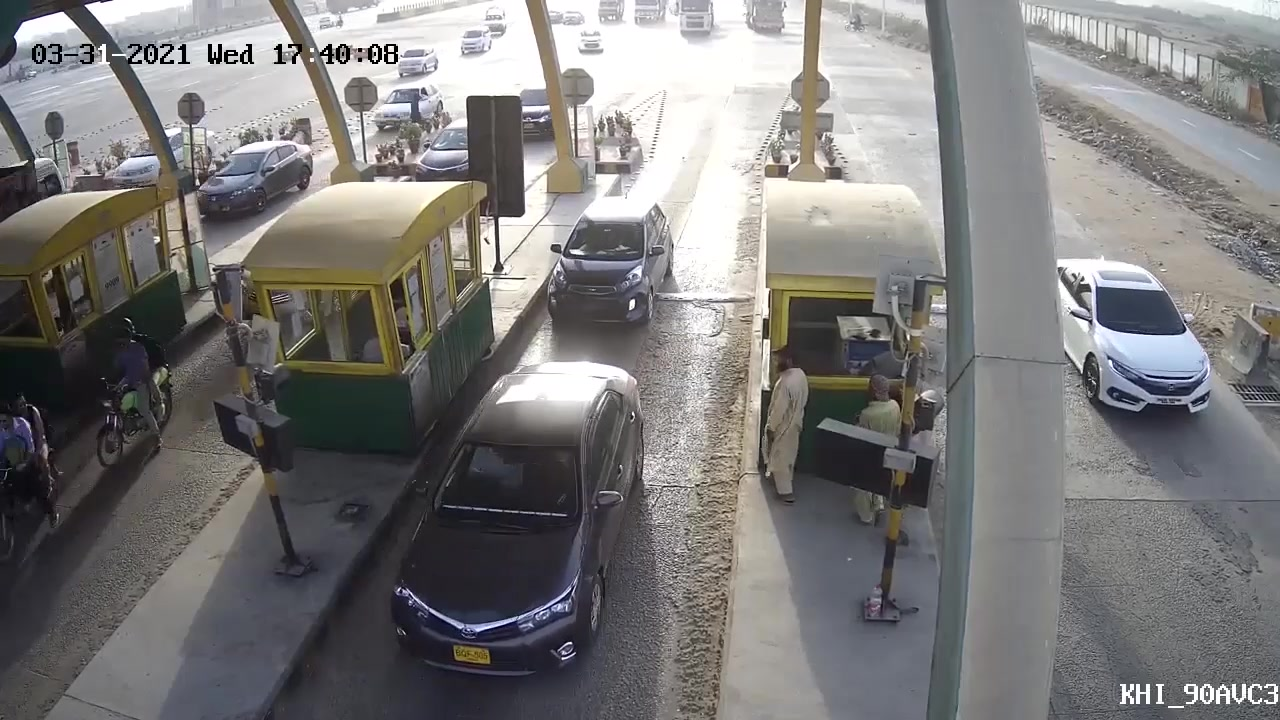F1: (389, 351, 647, 678), (543, 196, 670, 335)
